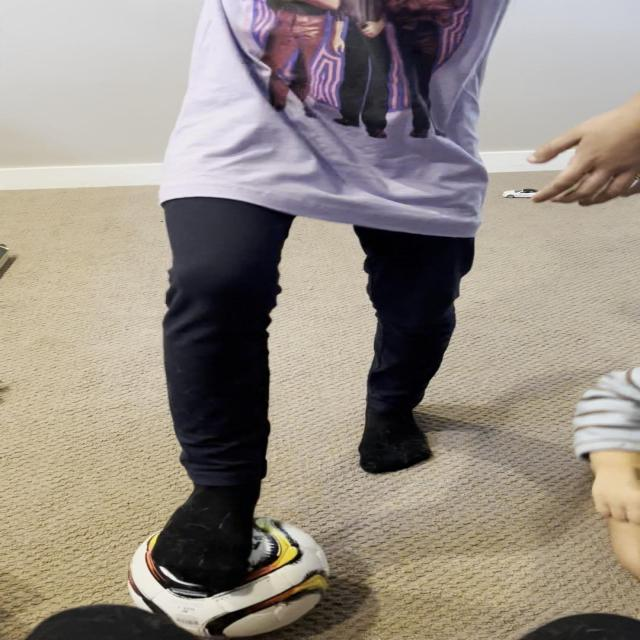Soccer Ball: (126, 513, 332, 640)
